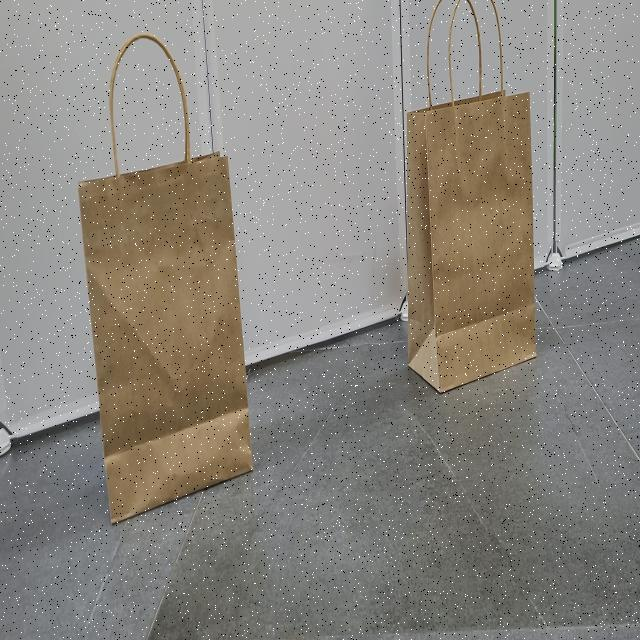paper bag: (74, 30, 257, 528), (404, 0, 540, 387)
